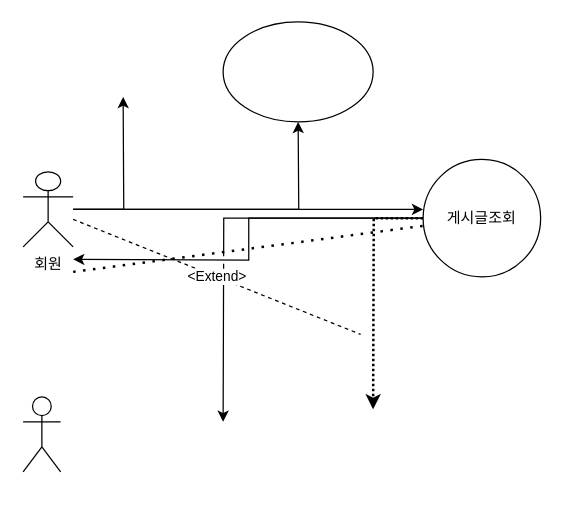
The diagram is 563 pixels wide and 520 high, and some of its shapes have lost their labels. Here are the shapes that lost their labels. From the top down, the centre of each, then its label:
point 297,71: 로그인
point 41,434: 비회훤
